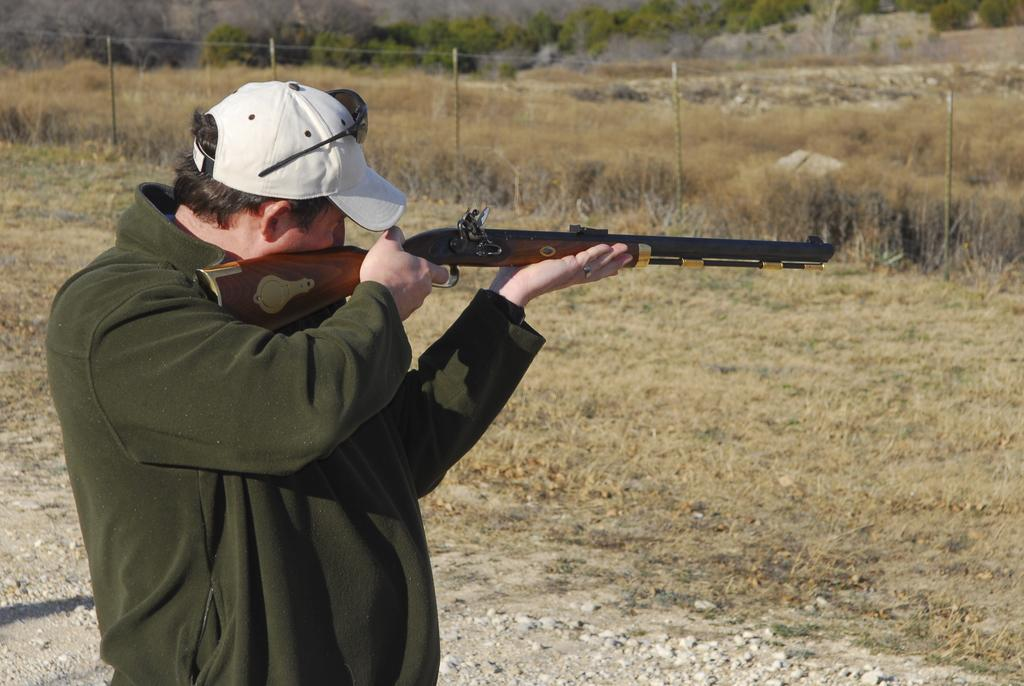Shotgun: (193, 207, 834, 332)
